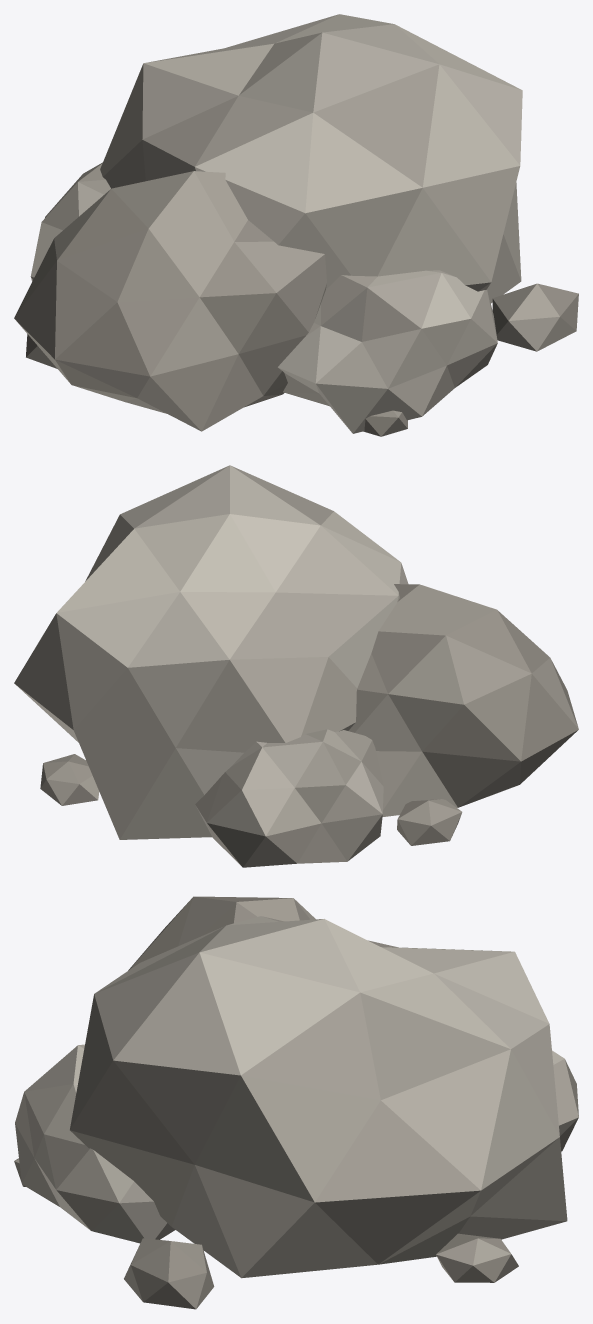
File: stone_outcrop.glb
The picture shows the model from 3 angles, top to bottom: view 1: azimuth 30°, elevation 25°; view 2: azimuth 150°, elevation 25°; view 3: azimuth 270°, elevation 25°; orthographic projection. The views are drawn at different scales.
Visible parts, largest first — view 1: stone_outcrop; view 2: stone_outcrop; view 3: stone_outcrop.
Boxes of the visible parts, bbox=[...] form: stone_outcrop: bbox=[14, 14, 578, 436]; stone_outcrop: bbox=[14, 465, 578, 867]; stone_outcrop: bbox=[14, 896, 578, 1309].
Bounding box in the file's own units: 2.89 × 1.52 × 2.57.
1 material, 1 textured.
